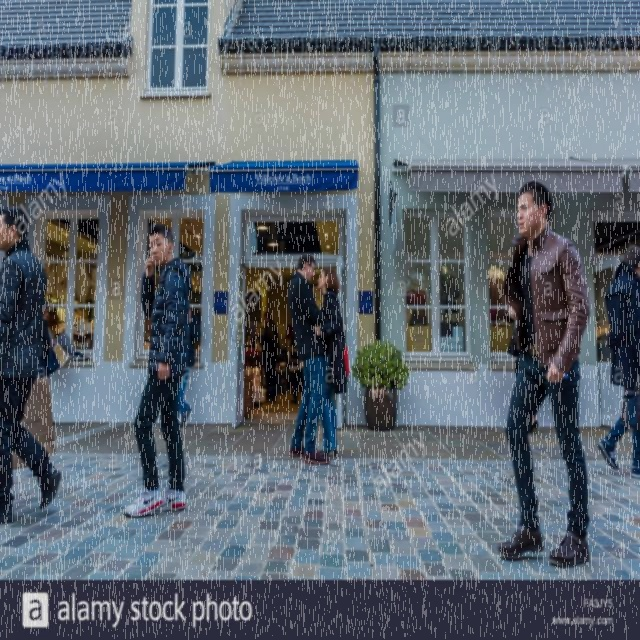pessoa: (494, 174, 596, 572), (121, 218, 197, 522), (286, 247, 332, 467), (598, 239, 640, 479), (314, 264, 348, 460), (177, 306, 202, 430), (42, 300, 90, 360), (258, 309, 281, 404), (289, 331, 305, 406), (526, 417, 540, 435)
